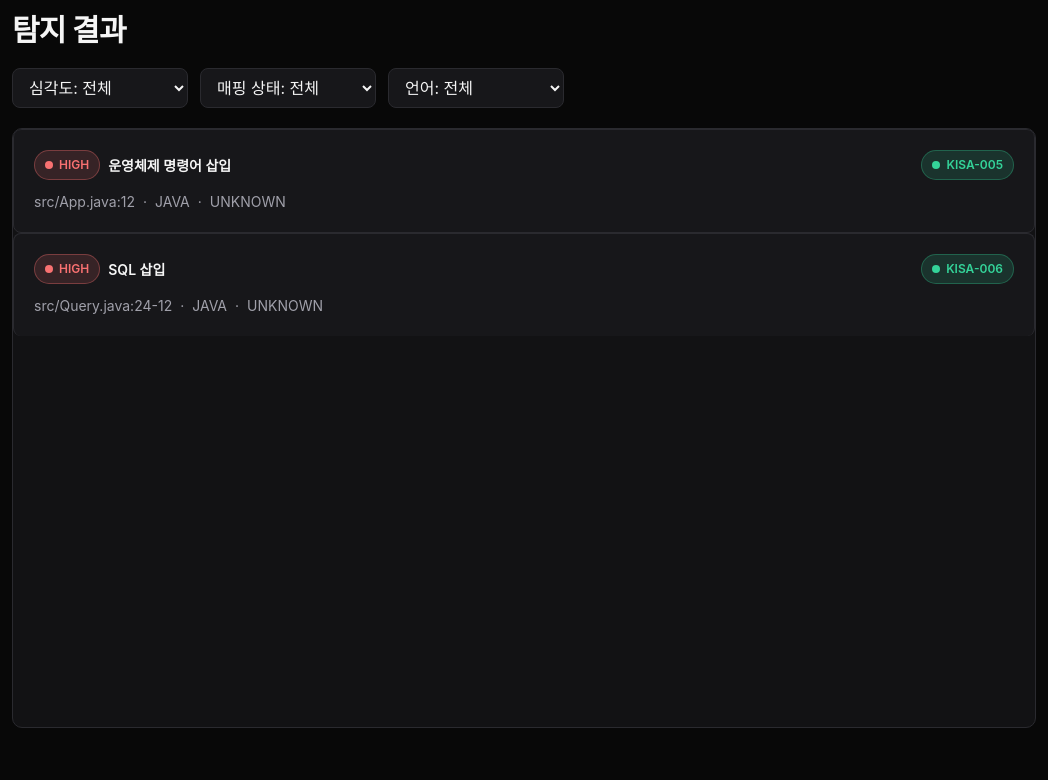
Test: E6 results and catalog pages › resets finding-detail scroll when another finding is selected
The image size is (1048, 780).
Click the button "HIGH 운영체제 명령어 삽입 KISA-005 src/App.java:12 · JAVA · UNKNOWN" at (67, 165), box [13, 129, 1035, 233]
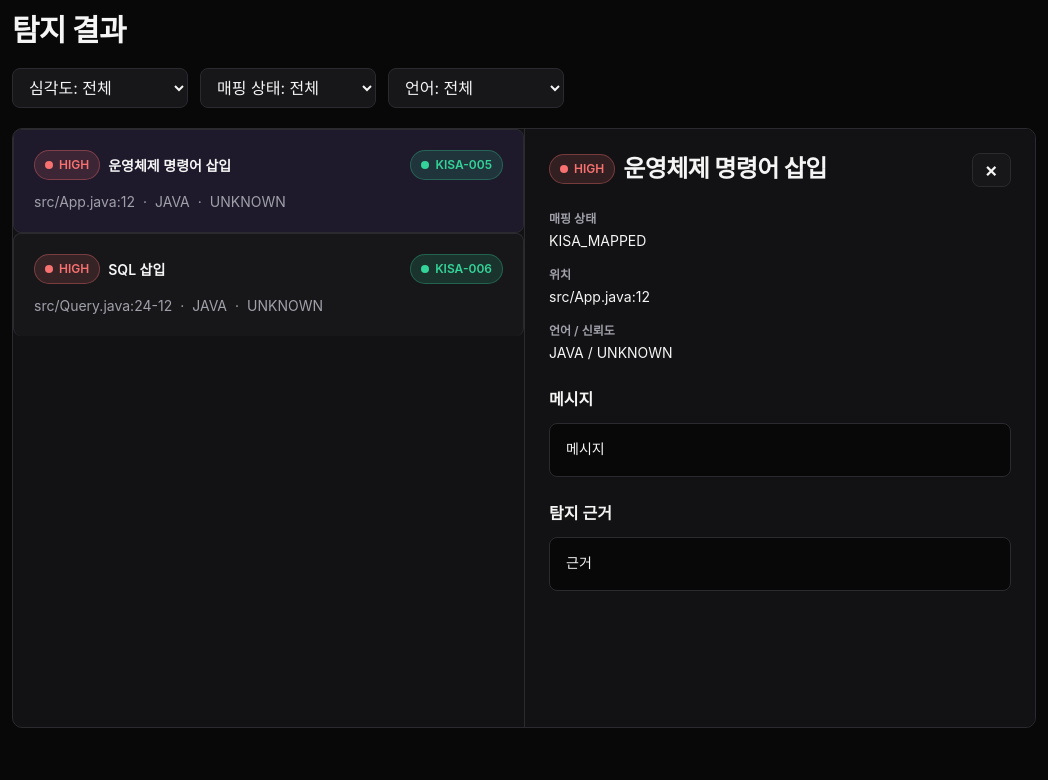
Click the button "HIGH SQL 삽입 KISA-006 src/Query.java:24-12 · JAVA · UNKNOWN" at (67, 269), box [13, 233, 524, 336]
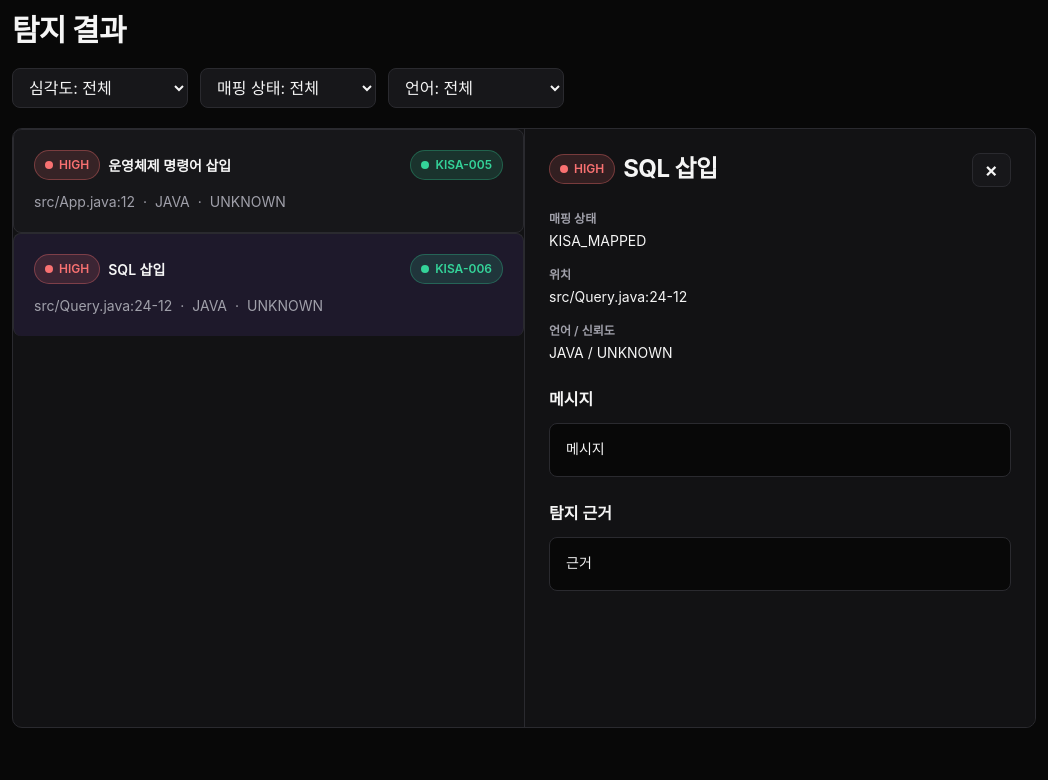
Expected: the heading "SQL 삽입" is shown, [623, 153, 717, 185]
